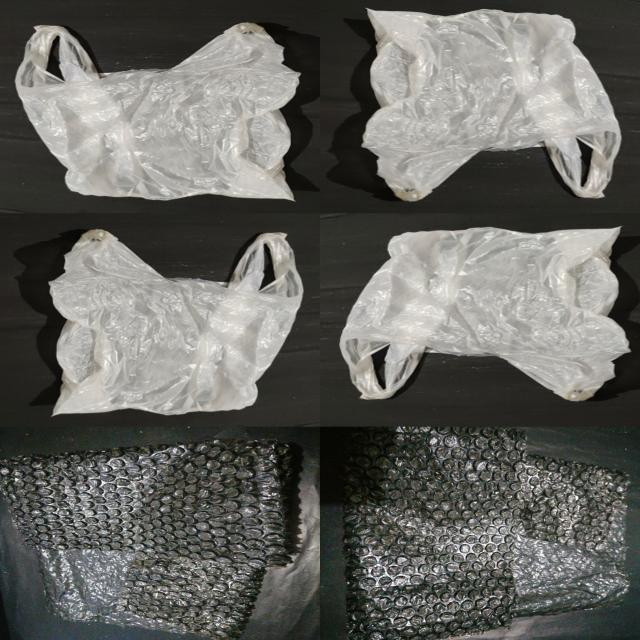Single-layer Plastic: (344, 428, 628, 639), (1, 440, 294, 639), (15, 22, 299, 200), (340, 228, 629, 401), (363, 10, 620, 201), (50, 230, 303, 415)
